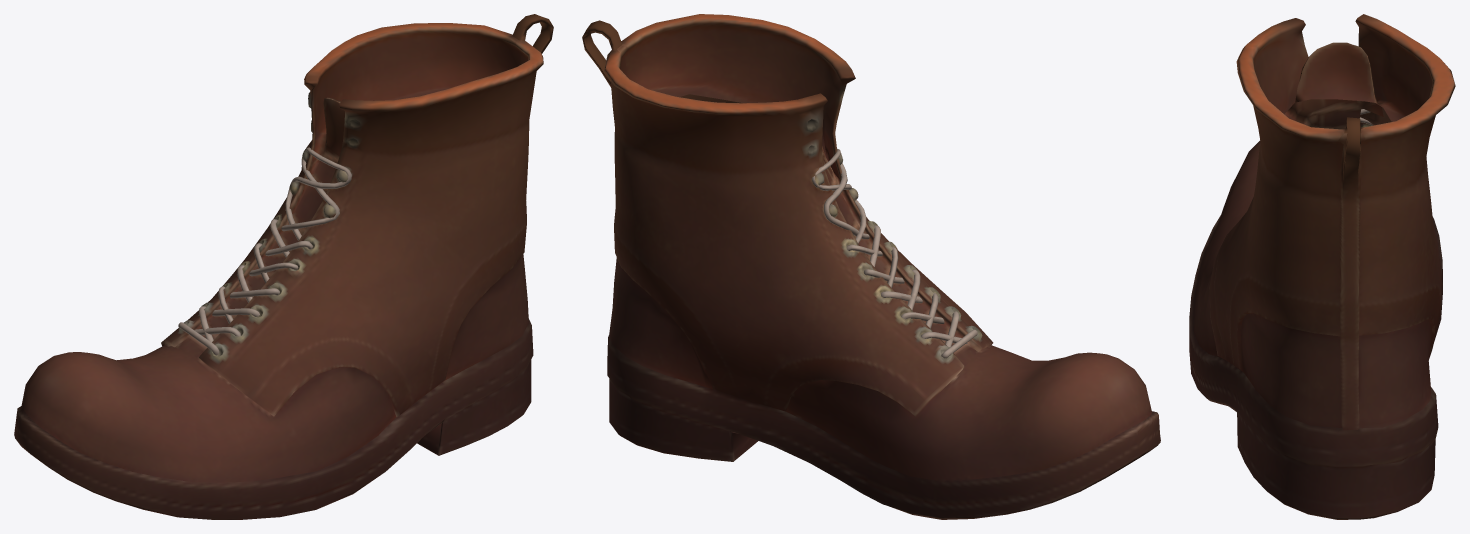
File: SM_Shoes_Left.fbx
The picture shows the model from 3 angles, left to right: view 1: azimuth 30°, elevation 25°; view 2: azimuth 150°, elevation 25°; view 3: azimuth 270°, elevation 25°; orthographic projection. The views are drawn at different scales.
Parts seen in each view (by area): view 1: SM_Shoes_Left_LOD0; view 2: SM_Shoes_Left_LOD0; view 3: SM_Shoes_Left_LOD0.
Part boxes in pixels (x1,y1,x2,y2): SM_Shoes_Left_LOD0: (14, 14, 553, 519); SM_Shoes_Left_LOD0: (582, 14, 1160, 519); SM_Shoes_Left_LOD0: (1189, 14, 1455, 519).
Size of the model in its own units: 30.88 by 11.91 by 20.44.
1 material, 1 textured.
